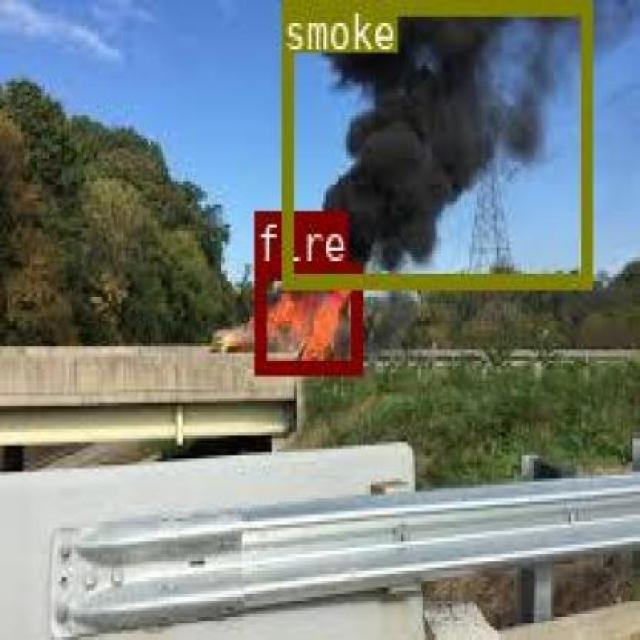Fire: (252, 260, 360, 372)
Smoke: (282, 0, 588, 283)
